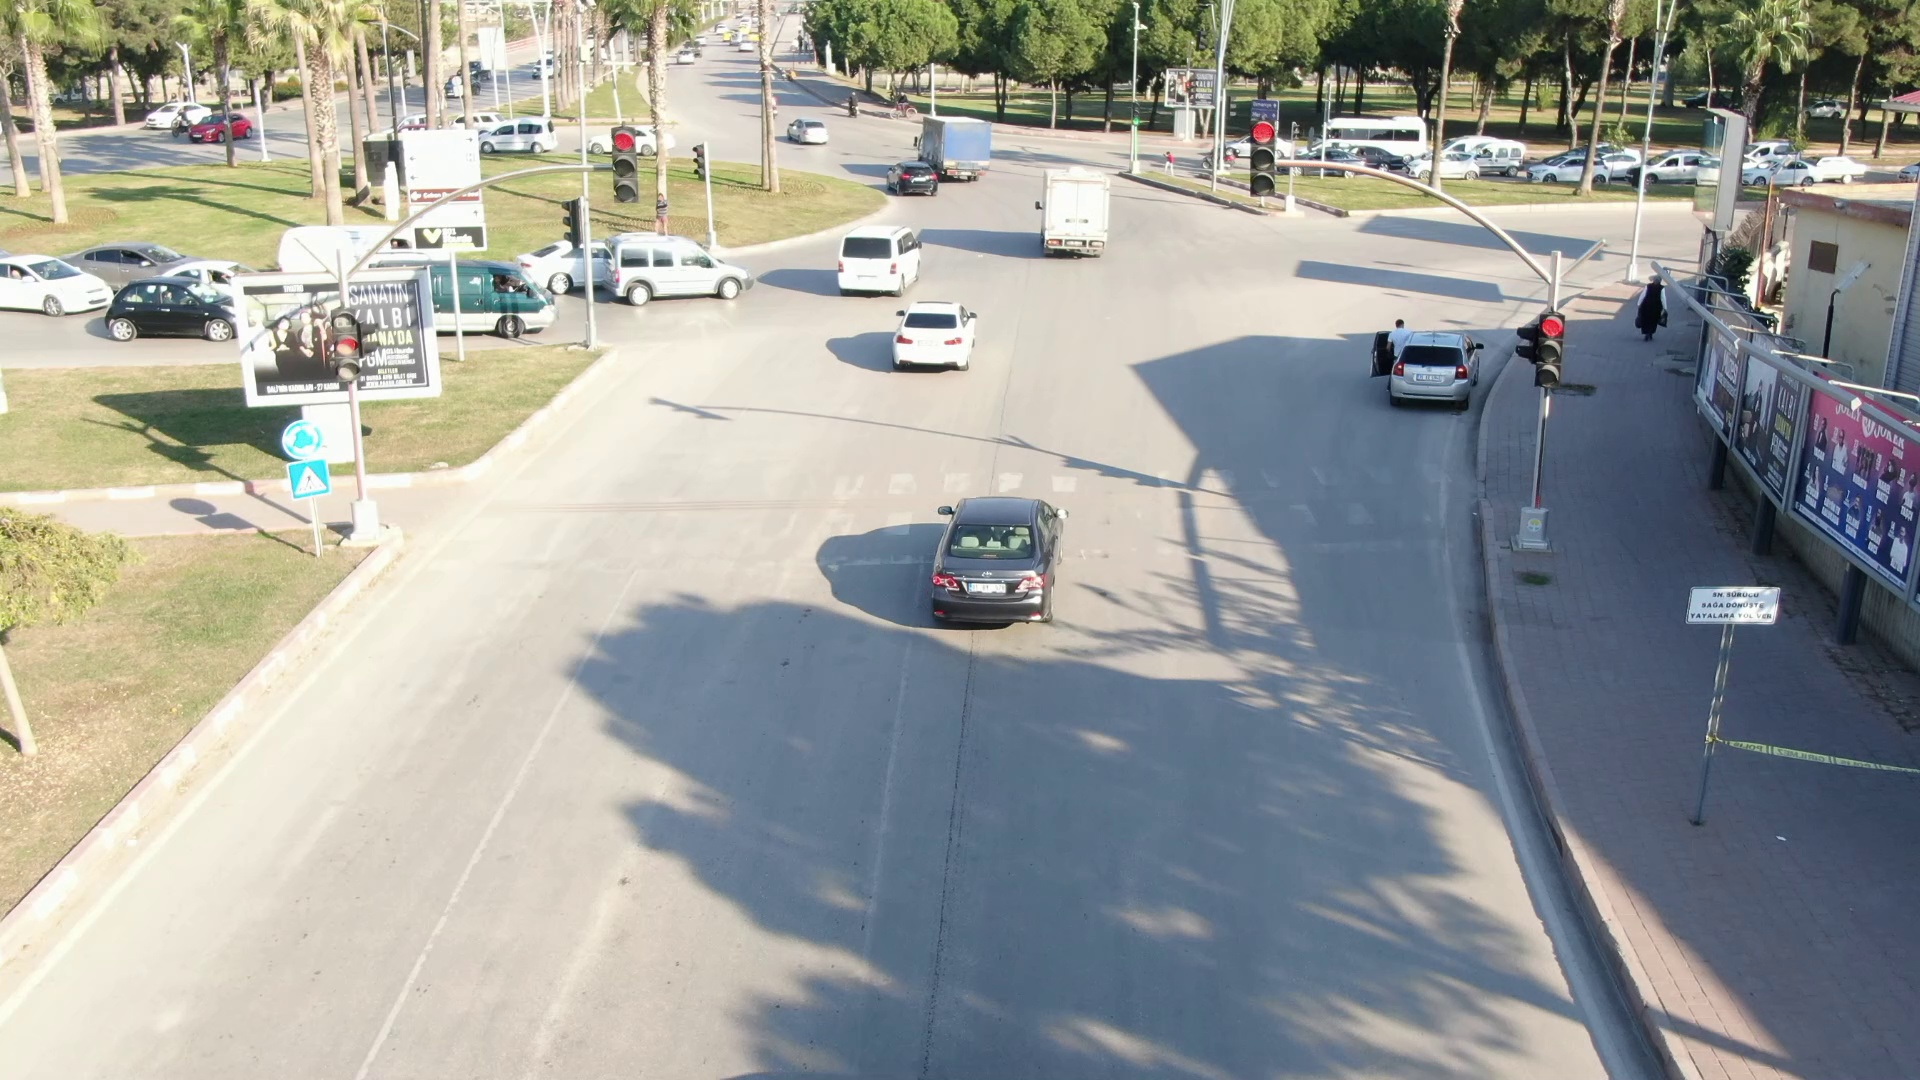car: (912, 494, 1085, 632), (89, 265, 248, 354), (601, 227, 760, 313), (1027, 158, 1131, 268), (824, 218, 931, 294), (888, 298, 989, 369), (1391, 337, 1482, 413), (872, 151, 945, 203)
person: (1629, 273, 1674, 353)
